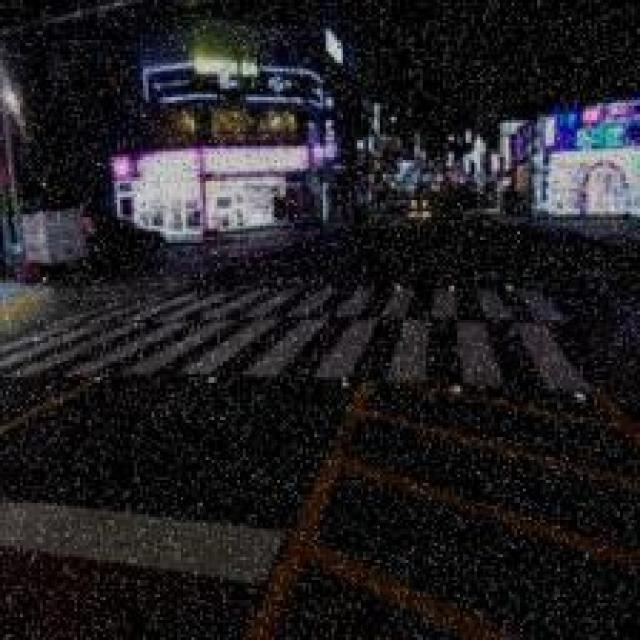crosswalk: (0, 273, 587, 396)
